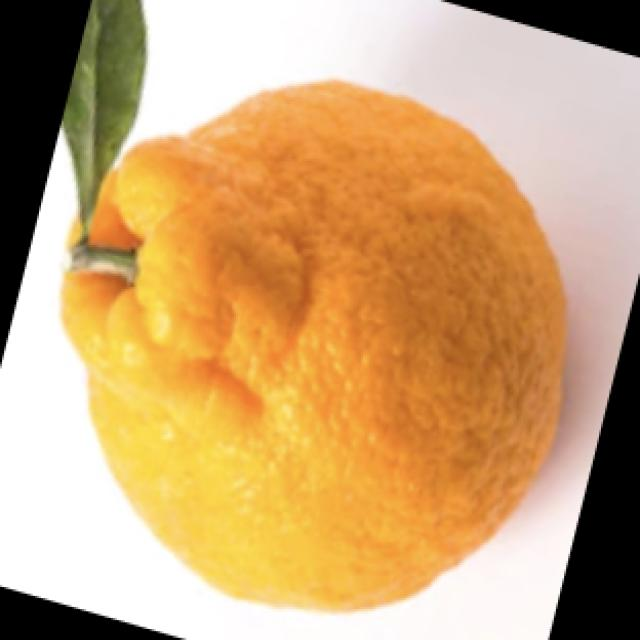orange: (68, 73, 580, 612)
